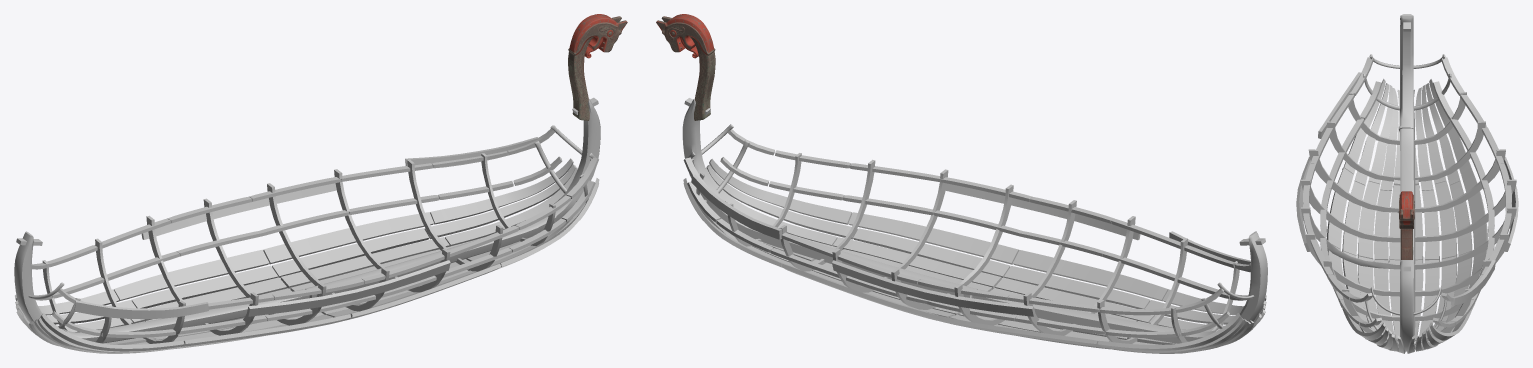
Rendered from build_boat_01_low.FBX.
3 views of the same model, side by side, from view 1: azimuth 30°, elevation 25°; view 2: azimuth 150°, elevation 25°; view 3: azimuth 270°, elevation 25° (orthographic). The views are drawn at different scales.
Visible parts, largest first — view 1: build_boat_01, build_boat_dragonhead_01_LOD0; view 2: build_boat_01, build_boat_dragonhead_01_LOD0; view 3: build_boat_01, build_boat_dragonhead_01_LOD0.
Boxes of the visible parts, x1,y1,x2,y2 form: build_boat_01: (14, 97, 600, 353); build_boat_dragonhead_01_LOD0: (568, 14, 627, 120); build_boat_01: (682, 98, 1267, 353); build_boat_dragonhead_01_LOD0: (656, 14, 715, 120); build_boat_01: (1296, 14, 1518, 353); build_boat_dragonhead_01_LOD0: (1398, 191, 1414, 259).
Size of what is drawn, in the model's own units: 949 by 327 by 334.
